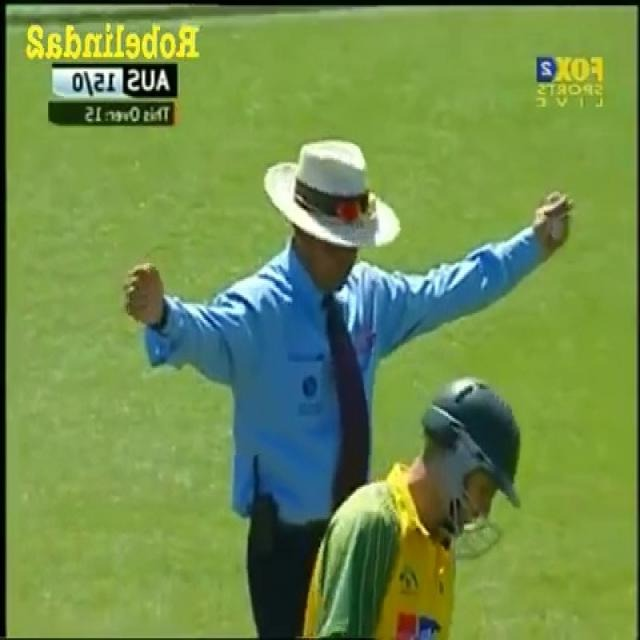Wide: (104, 134, 581, 429)
